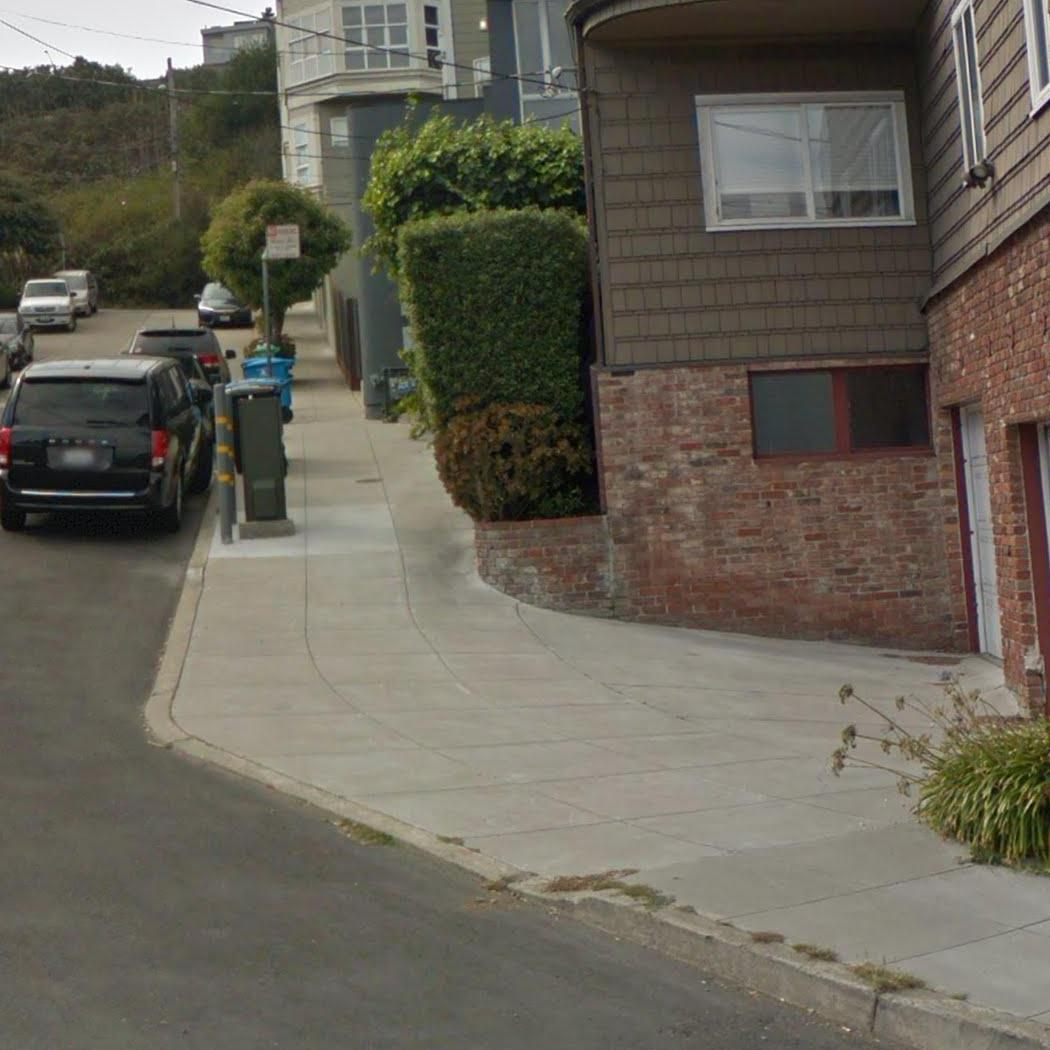No Parking: (262, 222, 304, 262)
